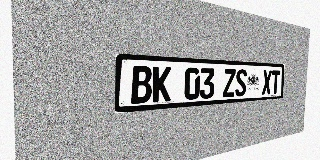0: (184, 67, 200, 100)
3: (200, 68, 215, 99)
B: (131, 66, 152, 104)
K: (152, 66, 171, 102)
S: (235, 69, 247, 97)
T: (271, 70, 280, 94)
X: (262, 70, 272, 95)
Z: (223, 69, 236, 97)
